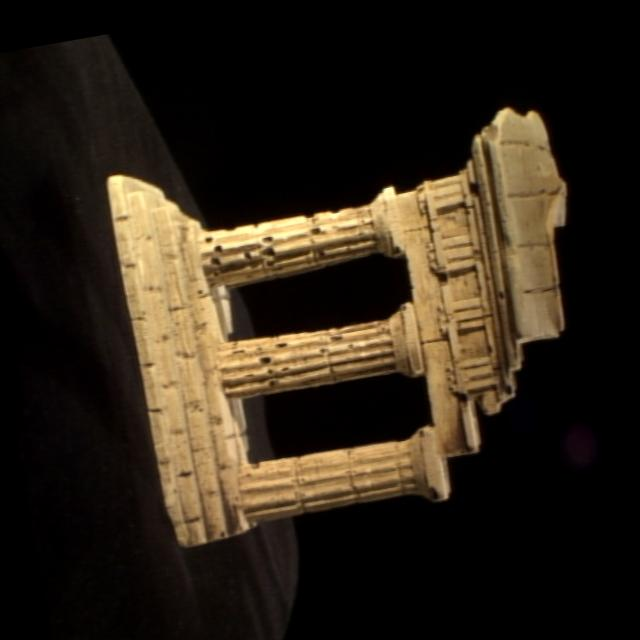Instance-Segmentation: (106, 108, 565, 544)
